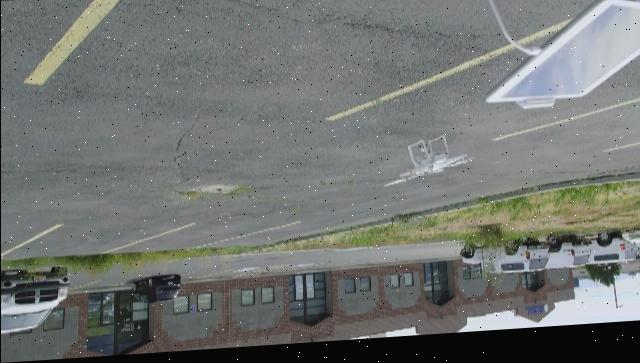drone: (387, 140, 471, 193)
